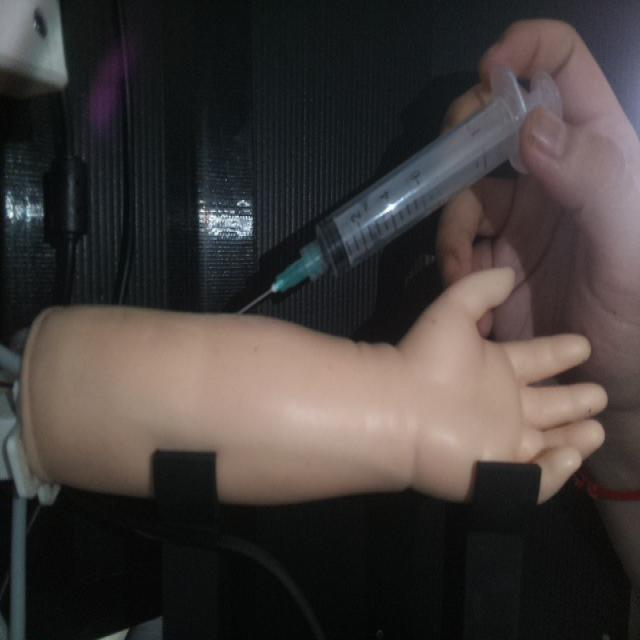Outside: (230, 62, 564, 321)
